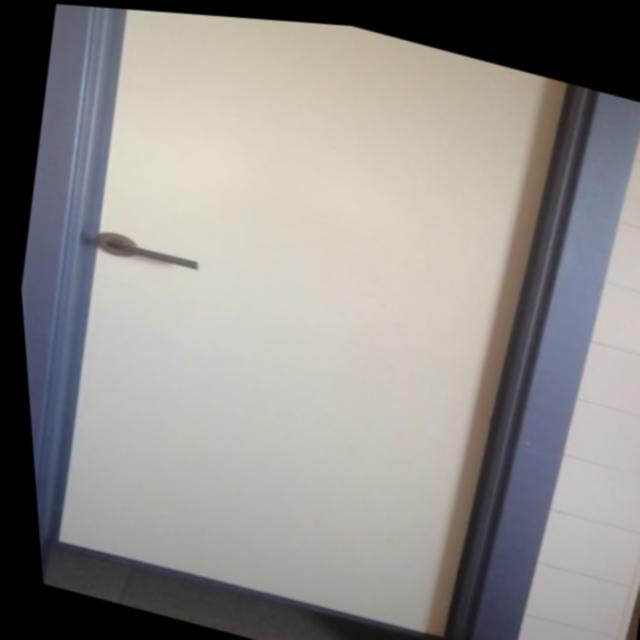door_handle: (95, 232, 200, 273)
